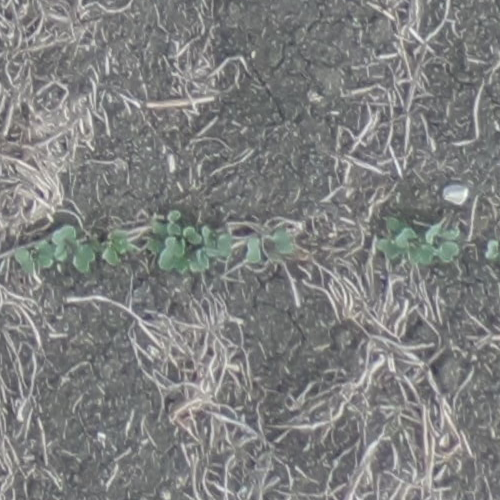plant: (381, 218, 453, 266), (149, 218, 204, 276), (54, 226, 96, 274), (244, 231, 298, 260), (16, 238, 53, 273), (199, 224, 226, 254), (102, 230, 125, 264), (484, 229, 499, 267)
